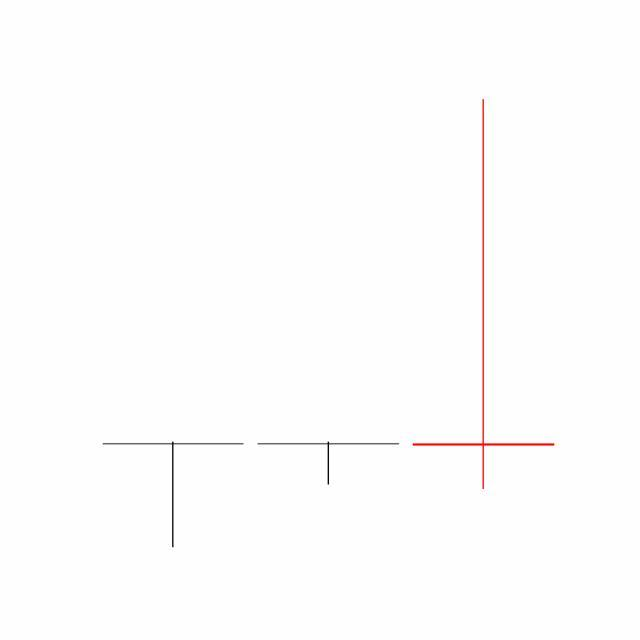Dragonfly Doji: (250, 441, 407, 486)
